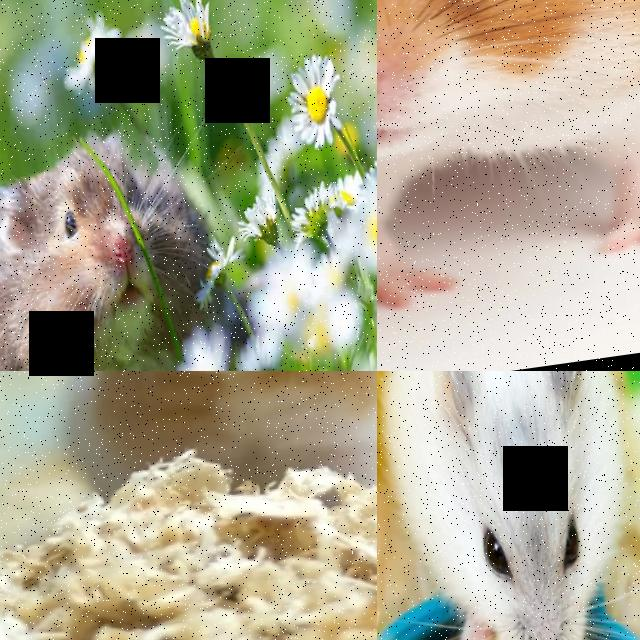hamster: (377, 0, 640, 346), (377, 371, 640, 640), (0, 114, 255, 371), (16, 371, 377, 529)
